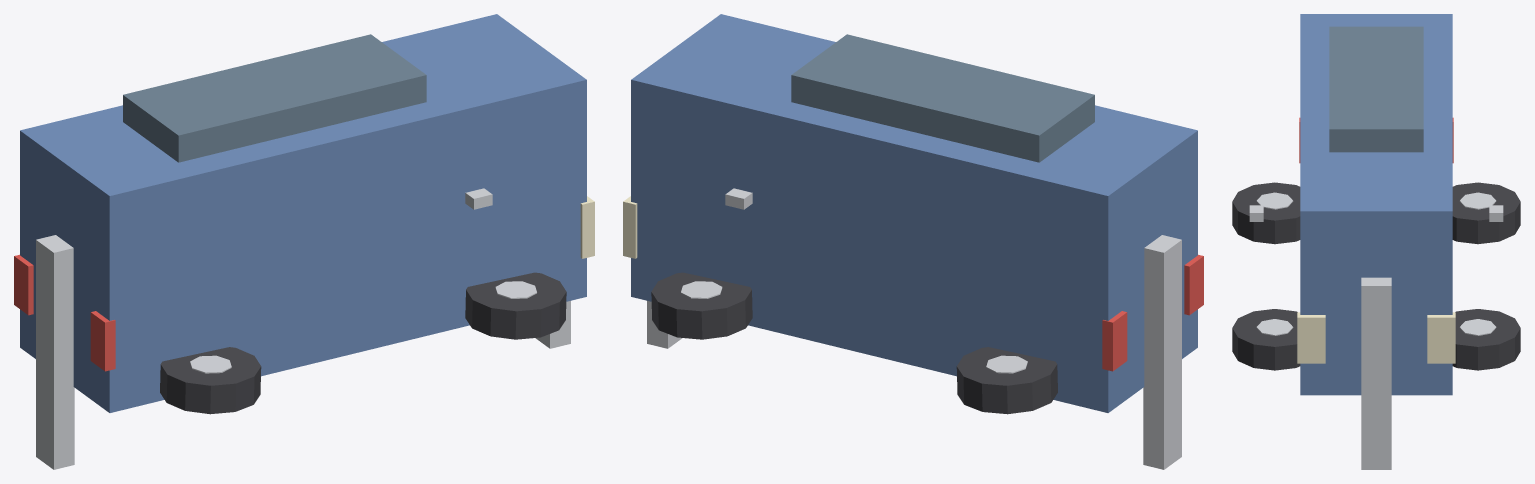
The model's file is sedan.glb.
3 views of the same model, side by side, from view 1: azimuth 30°, elevation 25°; view 2: azimuth 150°, elevation 25°; view 3: azimuth 270°, elevation 25° (orthographic). The views are drawn at different scales.
Visible parts, largest first — view 1: Body, Cabin, BumperR, Wheel1.472-1.0, Wheel-1.472-1.0, Tail-1, Tail1, Head-1, BumperF, Hub-1.472-1.0, Hub1.472-1.0; view 2: Body, Cabin, BumperR, Wheel1.4721.0, Wheel-1.4721.0, Tail1, Tail-1, Head1, BumperF, Hub-1.4721.0, Hub1.4721.0; view 3: Body, Cabin, BumperF, Wheel1.472-1.0, Wheel1.4721.0, Wheel-1.472-1.0, Wheel-1.4721.0, Head-1, Head1, Hub-1.472-1.0, Hub-1.4721.0, Hub1.472-1.0 (+1 smaller).
Boxes of the visible parts, left/top/right/bottom form: Body: left=20, top=14, right=586, bottom=412; Cabin: left=123, top=34, right=426, bottom=162; BumperR: left=36, top=235, right=74, bottom=469; Wheel1.472-1.0: left=465, top=272, right=566, bottom=339; Wheel-1.472-1.0: left=160, top=347, right=261, bottom=414; Tail-1: left=90, top=311, right=115, bottom=371; Tail1: left=14, top=254, right=33, bottom=315; Head-1: left=580, top=196, right=594, bottom=258; BumperF: left=535, top=301, right=570, bottom=348; Hub-1.472-1.0: left=190, top=355, right=231, bottom=373; Hub1.472-1.0: left=495, top=281, right=536, bottom=298; Body: left=631, top=14, right=1197, bottom=412; Cabin: left=791, top=34, right=1094, bottom=162; BumperR: left=1143, top=235, right=1181, bottom=469; Wheel1.4721.0: left=651, top=272, right=752, bottom=339; Wheel-1.4721.0: left=956, top=347, right=1057, bottom=414; Tail1: left=1102, top=311, right=1127, bottom=371; Tail-1: left=1184, top=254, right=1203, bottom=315; Head1: left=623, top=196, right=637, bottom=258; BumperF: left=647, top=301, right=682, bottom=348; Hub-1.4721.0: left=986, top=355, right=1027, bottom=373; Hub1.4721.0: left=681, top=281, right=722, bottom=298; Body: left=1300, top=14, right=1452, bottom=395; Cabin: left=1329, top=26, right=1423, bottom=152; BumperF: left=1361, top=277, right=1391, bottom=469; Wheel1.472-1.0: left=1232, top=309, right=1300, bottom=370; Wheel1.4721.0: left=1452, top=309, right=1520, bottom=370; Wheel-1.472-1.0: left=1232, top=182, right=1300, bottom=244; Wheel-1.4721.0: left=1452, top=182, right=1520, bottom=244; Head-1: left=1297, top=312, right=1325, bottom=363; Head1: left=1427, top=312, right=1455, bottom=363; Hub-1.472-1.0: left=1256, top=192, right=1293, bottom=209; Hub-1.4721.0: left=1459, top=192, right=1496, bottom=209; Hub1.472-1.0: left=1256, top=319, right=1293, bottom=335.
Size of the model in its own units: 4.98 by 2.97 by 2.84.
